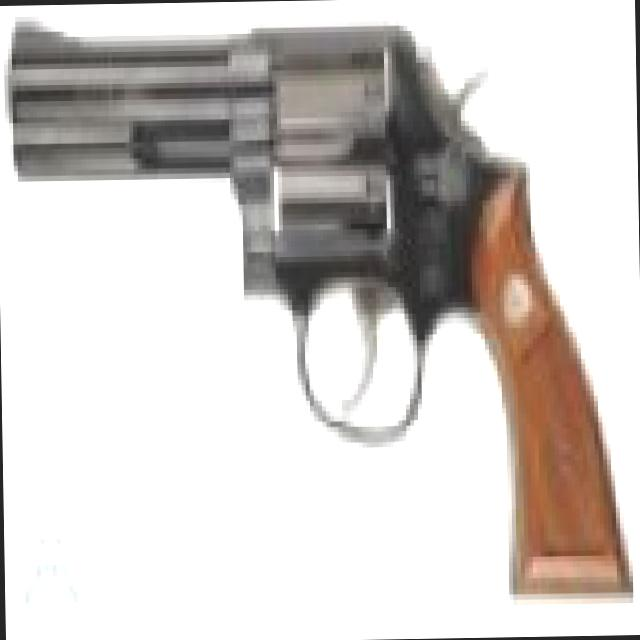handgun: (6, 0, 632, 597)
